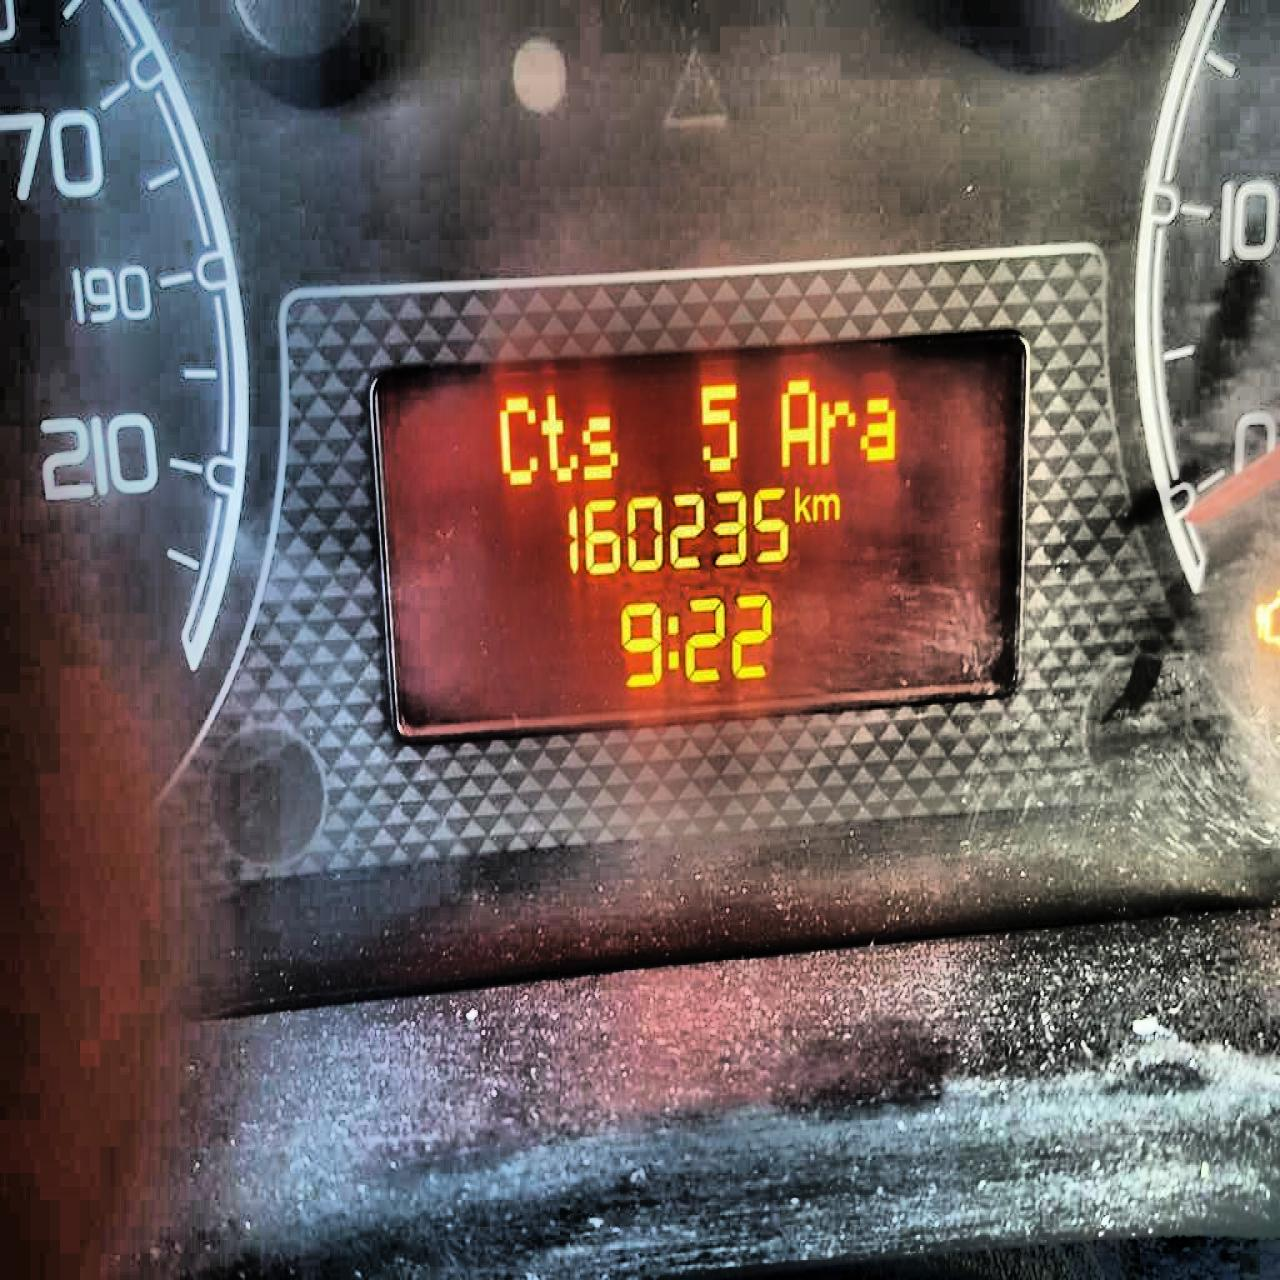0: (622, 493, 666, 574)
1: (561, 498, 580, 579)
2: (730, 588, 774, 682), (682, 593, 726, 683), (666, 490, 703, 572)
3: (710, 485, 748, 568)
5: (694, 376, 741, 474), (751, 482, 788, 566)
6: (583, 493, 620, 579)
9: (617, 597, 661, 692)
X: (493, 384, 538, 490), (775, 367, 817, 468), (538, 390, 579, 485), (580, 407, 622, 485), (860, 390, 900, 465), (818, 392, 856, 468), (665, 604, 680, 679), (812, 489, 842, 524), (789, 477, 810, 523)
odometer: (359, 321, 1036, 748)
